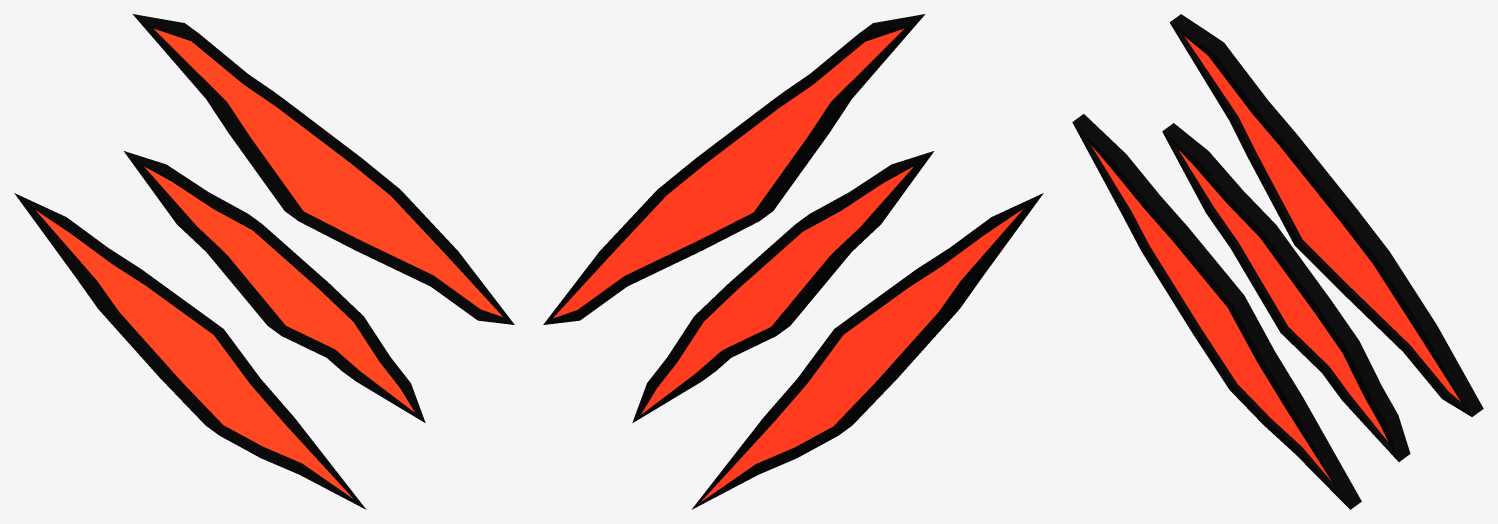
The model's file is Scartch.fbx.
3 renders of one model, left to right at view 1: azimuth 30°, elevation 25°; view 2: azimuth 150°, elevation 25°; view 3: azimuth 330°, elevation 25°, orthographic. The views are drawn at different scales.
Parts seen in each view (by area): view 1: Plane.001; view 2: Plane.001; view 3: Plane.001.
Part boxes in pixels (x1,y1,x2,y2): Plane.001: [14, 14, 514, 509]; Plane.001: [543, 14, 1043, 509]; Plane.001: [1072, 14, 1483, 509].
Bounding box in the file's own units: 287 × 304 × 14.6.
